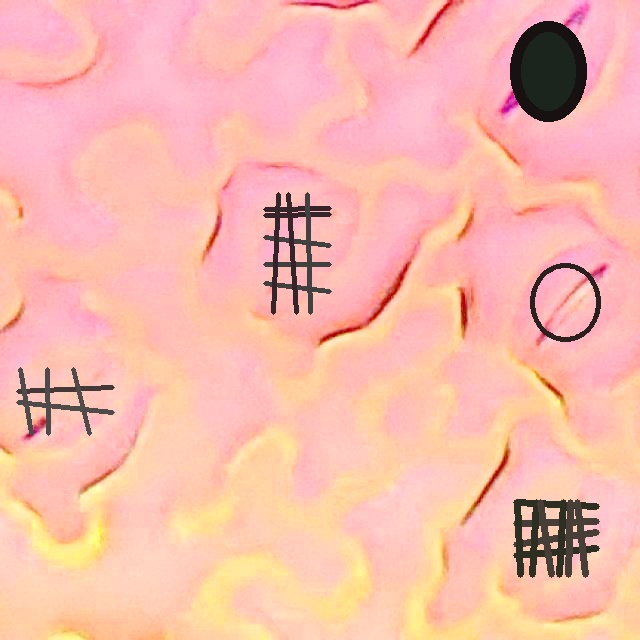close: (263, 192, 331, 314), (16, 367, 114, 435), (513, 499, 598, 576)
open: (510, 21, 585, 121), (530, 262, 600, 341)
